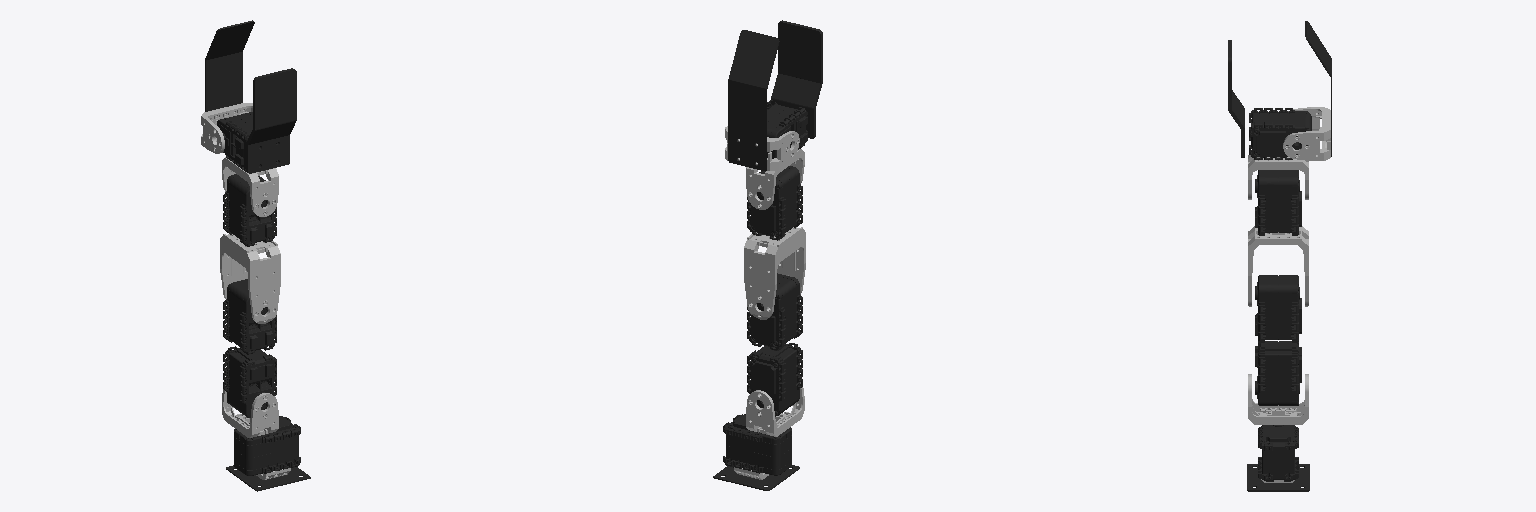
--- What the picture shows (computed from the rendered views, not written in the file) ---
3 views of the same robot in one strip: view 1: azimuth 30°, elevation 25°; view 2: azimuth 150°, elevation 25°; view 3: azimuth 270°, elevation 25° (orthographic).
Robot: crane_plus_arm — 23 links, 22 joints (5 revolute, 17 fixed); root link world; default pose: all joints at 0.
Visible links, largest first — view 1: crane_plus_internal_fixed_finger_link, crane_plus_elbow_link, crane_plus_internal_moving_finger_plate_link, crane_plus_shoulder_flex_link, crane_plus_internal_shoulder_servo_link, crane_plus_internal_lower_arm_servo_link, crane_plus_internal_wrist_servo_link, crane_plus_shoulder_revolute_link, crane_plus_wrist_link, crane_plus_internal_gripper_servo_link, crane_plus_moving_finger_link, crane_plus_internal_mounting_plate_link; view 2: crane_plus_internal_moving_finger_plate_link, crane_plus_internal_fixed_finger_link, crane_plus_elbow_link, crane_plus_shoulder_flex_link, crane_plus_internal_shoulder_servo_link, crane_plus_internal_lower_arm_servo_link, crane_plus_internal_wrist_servo_link, crane_plus_shoulder_revolute_link, crane_plus_internal_gripper_servo_link, crane_plus_wrist_link, crane_plus_moving_finger_link, crane_plus_internal_mounting_plate_link; view 3: crane_plus_internal_lower_arm_servo_link, crane_plus_shoulder_flex_link, crane_plus_internal_wrist_servo_link, crane_plus_internal_gripper_servo_link, crane_plus_internal_shoulder_servo_link, crane_plus_moving_finger_link, crane_plus_shoulder_revolute_link, crane_plus_elbow_link, crane_plus_internal_mounting_plate_link, crane_plus_wrist_link, crane_plus_internal_fixed_finger_link, crane_plus_internal_moving_finger_plate_link.
Link boxes in pixels (box(x1,y1,x2,y2)): crane_plus_internal_fixed_finger_link: box(246, 68, 296, 173); crane_plus_elbow_link: box(220, 234, 280, 323); crane_plus_internal_moving_finger_plate_link: box(205, 20, 254, 111); crane_plus_shoulder_flex_link: box(223, 346, 276, 417); crane_plus_internal_shoulder_servo_link: box(234, 416, 300, 475); crane_plus_internal_lower_arm_servo_link: box(223, 279, 276, 354); crane_plus_internal_wrist_servo_link: box(223, 174, 276, 246); crane_plus_shoulder_revolute_link: box(222, 385, 278, 437); crane_plus_wrist_link: box(222, 157, 278, 216); crane_plus_internal_gripper_servo_link: box(217, 112, 277, 171); crane_plus_moving_finger_link: box(201, 103, 252, 153); crane_plus_internal_mounting_plate_link: box(226, 465, 310, 491); crane_plus_internal_moving_finger_plate_link: box(728, 30, 779, 170); crane_plus_internal_fixed_finger_link: box(771, 20, 822, 138); crane_plus_elbow_link: box(744, 227, 805, 319); crane_plus_shoulder_flex_link: box(747, 343, 802, 416); crane_plus_internal_shoulder_servo_link: box(723, 414, 791, 475); crane_plus_internal_lower_arm_servo_link: box(747, 273, 802, 350); crane_plus_internal_wrist_servo_link: box(747, 166, 802, 240); crane_plus_shoulder_revolute_link: box(746, 382, 804, 436); crane_plus_internal_gripper_servo_link: box(767, 100, 807, 158); crane_plus_wrist_link: box(746, 149, 804, 209); crane_plus_moving_finger_link: box(725, 126, 799, 170); crane_plus_internal_mounting_plate_link: box(713, 465, 799, 490); crane_plus_internal_lower_arm_servo_link: box(1255, 275, 1301, 342); crane_plus_shoulder_flex_link: box(1255, 341, 1301, 405); crane_plus_internal_wrist_servo_link: box(1255, 170, 1301, 235); crane_plus_internal_gripper_servo_link: box(1249, 108, 1311, 159); crane_plus_internal_shoulder_servo_link: box(1258, 425, 1298, 481); crane_plus_moving_finger_link: box(1283, 107, 1330, 160); crane_plus_shoulder_revolute_link: box(1248, 374, 1308, 424); crane_plus_elbow_link: box(1248, 226, 1308, 306); crane_plus_internal_mounting_plate_link: box(1247, 464, 1309, 491); crane_plus_wrist_link: box(1248, 155, 1308, 199); crane_plus_internal_fixed_finger_link: box(1228, 40, 1244, 157); crane_plus_internal_moving_finger_plate_link: box(1305, 21, 1331, 156).
Bounding box of the posed robot: 0.0655 × 0.0831 × 0.3867 m (x, y, z).
13 mesh visuals loaded from 8 distinct referenced files (7 binary STL); not drawn: 5 (reference not matched to a file when rendering).

robot.urdf — crane_plus_arm:
<?xml version="1.0" ?>
<!-- =================================================================================== -->
<!-- |    This document was autogenerated by xacro from crane_plus.urdf.xacro          | -->
<!-- |    EDITING THIS FILE BY HAND IS NOT RECOMMENDED                                 | -->
<!-- =================================================================================== -->
<robot name="crane_plus_arm" xmlns:controller="http://playerstage.sourceforge.net/gazebo/xmlschema/#controller" xmlns:interface="http://playerstage.sourceforge.net/gazebo/xmlschema/#interface" xmlns:sensor="http://playerstage.sourceforge.net/gazebo/xmlschema/#sensor" xmlns:xacro="http://ros.org/wiki/xacro">
  <material name="grey">
    <color rgba="0.75 0.75 0.75 1.0"/>
  </material>
  <material name="black">
    <color rgba="0.2 0.2 0.2 1.0"/>
  </material>
  <!-- Link to provide the location reference for the arm -->
  <link name="world"/>
  <link name="crane_plus_base_link"/>
  <joint name="crane_plus_base_joint" type="fixed">
    <origin xyz="0 0 0"/>
    <parent link="world"/>
    <child link="crane_plus_base_link"/>
  </joint>
  <!-- TODO: When rviz supports multiple materials per link, combine the
         meshes to simplify the link structure. -->
  <joint name="crane_plus_internal_mounting_plate_joint" type="fixed">
    <origin rpy="0 0 0" xyz="0 0 0"/>
    <parent link="crane_plus_base_link"/>
    <child link="crane_plus_internal_mounting_plate_link"/>
  </joint>
  <link name="crane_plus_internal_mounting_plate_link">
    <!--<inertial>-->
    <!--<mass value="0.02"/>-->
    <!--<origin xyz="0 0 0.0005" rpy="0 0 0"/>-->
    <!--<inertia ixx="4.1683e-6" ixy="0.0" ixz="0.0"-->
    <!--iyy="8.33e-6" iyz="0.0"-->
    <!--izz="4.1683e-6"/>-->
    <!--</inertial>-->
    <inertial>
      <mass value="0.001"/>
      <origin rpy="0 0 0" xyz="0 0 0.0005"/>
      <inertia ixx="1" ixy="0.0" ixz="0.0" iyy="1" iyz="0.0" izz="1"/>
    </inertial>
    <visual>
      <origin rpy="0 0 0" xyz="-0.025 -0.025 0"/>
      <geometry>
        <mesh filename="package://crane_plus_description/meshes/mount.stl" scale="1 1 1"/>
      </geometry>
      <material name="black"/>
    </visual>
    <collision>
      <origin rpy="0 0 0" xyz="0 0 0.0005"/>
      <geometry>
        <box size="0.05 0.05 0.001"/>
      </geometry>
    </collision>
  </link>
  <joint name="crane_plus_internal_base_bracket_joint" type="fixed">
    <origin rpy="0 0 0" xyz="0 0 0.001"/>
    <parent link="crane_plus_internal_mounting_plate_link"/>
    <child link="crane_plus_internal_base_bracket_link"/>
  </joint>
  <link name="crane_plus_internal_base_bracket_link">
    <inertial>
      <mass value="0.001"/>
      <origin rpy="0 0 0" xyz="0 0 0.0005"/>
      <inertia ixx="1" ixy="0.0" ixz="0.0" iyy="1" iyz="0.0" izz="1"/>
    </inertial>
    <!--<inertial>-->
    <!--<mass value="0.005"/>-->
    <!--<origin xyz="0.0 0.0 0.004" rpy="0 0 0"/>-->
    <!--<inertia ixx="4.53e-7" ixy="0.0" ixz="0.0"-->
    <!--iyy="6.283e-7" iyz="0.0"-->
    <!--izz="2.283e-7"/>-->
    <!--</inertial>-->
    <visual>
      <origin rpy="-1.570795 0 0" xyz="0 0 0"/>
      <geometry>
        <mesh filename="package://crane_plus_description/meshes/f53.stl" scale="0.01 0.01 0.01"/>
      </geometry>
      <material name="grey"/>
    </visual>
    <collision>
      <origin rpy="0 0 0" xyz="0.0 0.0 0.004"/>
      <geometry>
        <box size="0.022 0.032 0.008"/>
      </geometry>
    </collision>
  </link>
  <joint name="crane_plus_internal_shoulder_servo_joint" type="fixed">
    <origin rpy="0 0 0" xyz="-0.0028 0 0.023"/>
    <parent link="crane_plus_internal_base_bracket_link"/>
    <child link="crane_plus_internal_shoulder_servo_link"/>
  </joint>
  <link name="crane_plus_internal_shoulder_servo_link">
    <inertial>
      <mass value="0.001"/>
      <origin rpy="0 0 0" xyz="0 0 0.0005"/>
      <inertia ixx="1" ixy="0.0" ixz="0.0" iyy="1" iyz="0.0" izz="1"/>
    </inertial>
    <!--<inertial>-->
    <!--<mass value="0.0564"/>-->
    <!--<origin xyz="${0-AX12_ORIGIN_OFFSET_X} 0 0" rpy="0 0 0"/>-->
    <!--<inertia ixx="1.16e-5" ixy="0.0" ixz="0.0"-->
    <!--iyy="1.656e-50" iyz="0.0"-->
    <!--izz="1.854e-5"/>-->
    <!--</inertial>-->
    <visual>
      <origin rpy="-1.570795 0 0" xyz="0 0 0"/>
      <geometry>
        <mesh filename="package://crane_plus_description/meshes/ax12_box.stl" scale="0.001 0.001 0.001"/>
      </geometry>
      <material name="black"/>
    </visual>
    <collision>
      <origin rpy="0 0 0" xyz="0.0015 0 0"/>
      <geometry>
        <box size="0.05 0.032 0.038"/>
      </geometry>
    </collision>
  </link>
  <joint name="crane_plus_shoulder_revolute_joint" type="revolute">
    <origin rpy="0 0 0" xyz="-0.0135 0 0.021"/>
    <axis xyz="0 0 1"/>
    <limit effort="30" lower="-2.617" upper="2.617" velocity="1.571"/>
    <parent link="crane_plus_internal_shoulder_servo_link"/>
    <child link="crane_plus_shoulder_revolute_link"/>
  </joint>
  <link name="crane_plus_shoulder_revolute_link">
    <inertial>
      <mass value="0.001"/>
      <origin rpy="0 0 0" xyz="0 0 0.0005"/>
      <inertia ixx="1" ixy="0.0" ixz="0.0" iyy="1" iyz="0.0" izz="1"/>
    </inertial>
    <!--<inertial>-->
    <!--<mass value="0.01"/>-->
    <!--<origin xyz="0 0 0.01875" rpy="0 0 0"/>-->
    <!--[> Full height: (3.1320833333333333e-06, 2.481041666666667e-06, 1.6927083333333333e-06) <]-->
    <!--[> Half height: (2.253177083333333e-06, 2.481041666666667e-06, 8.138020833333333e-07) <]-->
    <!--<inertia ixx="2.253e-6" ixy="0.0" ixz="0.0"-->
    <!--iyy="2.481e-6" iyz="0.0"-->
    <!--izz="8.138e-7"/>-->
    <!--</inertial>-->
    <visual>
      <origin rpy="1.570795 0 0" xyz="0 0 0.0265"/>
      <geometry>
        <mesh filename="package://crane_plus_description/meshes/f2.stl" scale="0.001 0.001 0.001"/>
      </geometry>
      <material name="grey"/>
    </visual>
    <collision>
      <origin rpy="0 0 0" xyz="0 0 0.01875"/>
      <geometry>
        <box size="0.025 0.0485 0.0375"/>
      </geometry>
    </collision>
  </link>
  <joint name="crane_plus_shoulder_flex_joint" type="revolute">
    <origin rpy="-1.570795 -1.570795 0" xyz="0 0 0.0265"/>
    <axis xyz="0 0 -1"/>
    <limit effort="30" lower="-1.7" upper="1.7" velocity="1.571"/>
    <parent link="crane_plus_shoulder_revolute_link"/>
    <child link="crane_plus_shoulder_flex_link"/>
  </joint>
  <link name="crane_plus_shoulder_flex_link">
    <inertial>
      <mass value="0.001"/>
      <origin rpy="0 0 0" xyz="0 0 0.0005"/>
      <inertia ixx="1" ixy="0.0" ixz="0.0" iyy="1" iyz="0.0" izz="1"/>
    </inertial>
    <!--<inertial>-->
    <!--<mass value="0.0564"/>-->
    <!--<origin xyz="${AX12_ORIGIN_TO_AXLE-AX12_ORIGIN_OFFSET_X} 0 0" rpy="0 0 0"/>-->
    <!--<inertia ixx="1.16e-5" ixy="0.0" ixz="0.0"-->
    <!--iyy="1.656e-5" iyz="0.0"-->
    <!--izz="1.854e-5"/>-->
    <!--</inertial>-->
    <visual>
      <origin rpy="-1.570795 0 0" xyz="0.012 0 0"/>
      <geometry>
        <mesh filename="package://crane_plus_description/meshes/ax12_box.stl" scale="0.001 0.001 0.001"/>
      </geometry>
      <material name="black"/>
    </visual>
    <collision>
      <origin rpy="0 0 0" xyz="0.0135 0 0"/>
      <geometry>
        <box size="0.05 0.032 0.038"/>
      </geometry>
    </collision>
  </link>
  <joint name="crane_plus_internal_upper_arm_upper_joiner_joint" type="fixed">
    <origin rpy="-1.570795 0 1.570795" xyz="0.0415 0 0"/>
    <parent link="crane_plus_shoulder_flex_link"/>
    <child link="crane_plus_internal_upper_arm_upper_joiner_link"/>
  </joint>
  <link name="crane_plus_internal_upper_arm_upper_joiner_link">
    <inertial>
      <mass value="0.001"/>
      <origin rpy="0 0 0" xyz="0 0 0.0005"/>
      <inertia ixx="1" ixy="0.0" ixz="0.0" iyy="1" iyz="0.0" izz="1"/>
    </inertial>
    <!--<inertial>-->
    <!--<mass value="0.005"/>-->
    <!--<origin xyz="0.0 0.0 0.0045" rpy="0 0 0"/>-->
    <!--<inertia ixx="6.354e-7" ixy="0.0" ixz="0.0"-->
    <!--iyy="8.621e-7" iyz="0.0"-->
    <!--izz="2.942e-7"/>-->
    <!--</inertial>-->
    <visual>
      <origin rpy="1.570795 0 3.14159" xyz="0 0 0"/>
      <geometry>
        <mesh filename="package://crane_plus_description/meshes/f3.stl" scale="0.001 0.001 0.001"/>
      </geometry>
      <material name="grey"/>
    </visual>
    <collision>
      <origin rpy="0 0 0" xyz="0.0 0.0 0.0045"/>
      <geometry>
        <box size="0.025 0.038 0.009"/>
      </geometry>
    </collision>
  </link>
  <joint name="crane_plus_internal_upper_arm_lower_joiner_joint" type="fixed">
    <origin rpy="3.14159 0 0" xyz="0 0 0"/>
    <parent link="crane_plus_internal_upper_arm_upper_joiner_link"/>
    <child link="crane_plus_internal_upper_arm_lower_joiner_link"/>
  </joint>
  <link name="crane_plus_internal_upper_arm_lower_joiner_link">
    <inertial>
      <mass value="0.001"/>
      <origin rpy="0 0 0" xyz="0 0 0.0005"/>
      <inertia ixx="1" ixy="0.0" ixz="0.0" iyy="1" iyz="0.0" izz="1"/>
    </inertial>
    <!--<inertial>-->
    <!--<mass value="0.005"/>-->
    <!--<origin xyz="0.0 0.0 0.0045" rpy="0 0 0"/>-->
    <!--<inertia ixx="6.354e-7" ixy="0.0" ixz="0.0"-->
    <!--iyy="8.621e-7" iyz="0.0"-->
    <!--izz="2.942e-7"/>-->
    <!--</inertial>-->
    <visual>
      <origin rpy="1.570795 0 3.14159" xyz="0 0 0"/>
      <geometry>
        <mesh filename="package://crane_plus_description/meshes/f3.stl" scale="0.001 0.001 0.001"/>
      </geometry>
      <material name="grey"/>
    </visual>
    <collision>
      <origin rpy="0 0 0" xyz="0.0 0.0 0.0045"/>
      <geometry>
        <box size="0.025 0.038 0.009"/>
      </geometry>
    </collision>
  </link>
  <joint name="crane_plus_internal_lower_arm_servo_joint" type="fixed">
    <origin rpy="0 1.570795 1.570795" xyz="0 0 0.0295"/>
    <parent link="crane_plus_internal_upper_arm_lower_joiner_link"/>
    <child link="crane_plus_internal_lower_arm_servo_link"/>
  </joint>
  <link name="crane_plus_internal_lower_arm_servo_link">
    <inertial>
      <mass value="0.001"/>
      <origin rpy="0 0 0" xyz="0 0 0.0005"/>
      <inertia ixx="1" ixy="0.0" ixz="0.0" iyy="1" iyz="0.0" izz="1"/>
    </inertial>
    <!--<inertial>-->
    <!--<mass value="0.0564"/>-->
    <!--<origin xyz="${0-AX12_ORIGIN_OFFSET_X} 0 0" rpy="0 0 0"/>-->
    <!--<inertia ixx="1.16e-5" ixy="0.0" ixz="0.0"-->
    <!--iyy="1.656e-50" iyz="0.0"-->
    <!--izz="1.854e-5"/>-->
    <!--</inertial>-->
    <visual>
      <origin rpy="-1.570795 0 0" xyz="0 0 0"/>
      <geometry>
        <mesh filename="package://crane_plus_description/meshes/ax12_box.stl" scale="0.001 0.001 0.001"/>
      </geometry>
      <material name="black"/>
    </visual>
    <collision>
      <origin rpy="0 0 0" xyz="0.0015 0 0"/>
      <geometry>
        <box size="0.05 0.032 0.038"/>
      </geometry>
    </collision>
  </link>
  <joint name="crane_plus_elbow_joint" type="revolute">
    <origin rpy="1.570795 0 1.570795" xyz="-0.012 0 0"/>
    <axis xyz="0 1 0"/>
    <limit effort="30" lower="-2.3" upper="2.3" velocity="1.571"/>
    <parent link="crane_plus_internal_lower_arm_servo_link"/>
    <child link="crane_plus_elbow_link"/>
  </joint>
  <link name="crane_plus_elbow_link">
    <inertial>
      <mass value="0.001"/>
      <origin rpy="0 0 0" xyz="0 0 0.0005"/>
      <inertia ixx="1" ixy="0.0" ixz="0.0" iyy="1" iyz="0.0" izz="1"/>
    </inertial>
    <!--<inertial>-->
    <!--<mass value="0.015"/>-->
    <!--<origin xyz="0 0 -${F4_AXLE_HEIGHT-F4_HEIGHT/2+0.0015}" rpy="0 0 0"/>-->
    <!--[> Full height: (8.2215625e-06, 3.9203124999999996e-06, 6.2612499999999996e-06) <]-->
    <!--[> Half height: (4.2606249999999995e-06, 3.9203124999999996e-06, 2.3003125e-06) <]-->
    <!--<inertia ixx="4.261e-6" ixy="0.0" ixz="0.0"-->
    <!--iyy="3.921e-6" iyz="0.0"-->
    <!--izz="2.3e-6"/>-->
    <!--</inertial>-->
    <visual>
      <origin rpy="1.570795 0 0" xyz="0 0 0"/>
      <geometry>
        <mesh filename="package://crane_plus_description/meshes/f4.stl" scale="0.001 0.001 0.001"/>
      </geometry>
      <material name="grey"/>
    </visual>
    <collision>
      <!-- 0.0015 is for the nub height which is not included in
             F4_AXLE_HEIGHT -->
      <origin rpy="0 0 0" xyz="0 0 -0.0215"/>
      <geometry>
        <box size="0.028 0.0485 0.065"/>
      </geometry>
    </collision>
  </link>
  <joint name="crane_plus_internal_lower_arm_joiner_joint" type="fixed">
    <origin rpy="0 3.14159 0" xyz="0 0 -0.0525"/>
    <parent link="crane_plus_elbow_link"/>
    <child link="crane_plus_internal_lower_arm_joiner_link"/>
  </joint>
  <link name="crane_plus_internal_lower_arm_joiner_link">
    <inertial>
      <mass value="0.001"/>
      <origin rpy="0 0 0" xyz="0 0 0.0005"/>
      <inertia ixx="1" ixy="0.0" ixz="0.0" iyy="1" iyz="0.0" izz="1"/>
    </inertial>
    <!--<inertial>-->
    <!--<mass value="0.005"/>-->
    <!--<origin xyz="0.0 0.0 0.0045" rpy="0 0 0"/>-->
    <!--<inertia ixx="6.354e-7" ixy="0.0" ixz="0.0"-->
    <!--iyy="8.621e-7" iyz="0.0"-->
    <!--izz="2.942e-7"/>-->
    <!--</inertial>-->
    <visual>
      <origin rpy="1.570795 0 3.14159" xyz="0 0 0"/>
      <geometry>
        <mesh filename="package://crane_plus_description/meshes/f3.stl" scale="0.001 0.001 0.001"/>
      </geometry>
      <material name="grey"/>
    </visual>
    <collision>
      <origin rpy="0 0 0" xyz="0.0 0.0 0.0045"/>
      <geometry>
        <box size="0.025 0.038 0.009"/>
      </geometry>
    </collision>
  </link>
  <joint name="crane_plus_internal_wrist_servo_joint" type="fixed">
    <origin rpy="0 1.570795 1.570795" xyz="0 0 0.0295"/>
    <parent link="crane_plus_internal_lower_arm_joiner_link"/>
    <child link="crane_plus_internal_wrist_servo_link"/>
  </joint>
  <link name="crane_plus_internal_wrist_servo_link">
    <inertial>
      <mass value="0.001"/>
      <origin rpy="0 0 0" xyz="0 0 0.0005"/>
      <inertia ixx="1" ixy="0.0" ixz="0.0" iyy="1" iyz="0.0" izz="1"/>
    </inertial>
    <!--<inertial>-->
    <!--<mass value="0.0564"/>-->
    <!--<origin xyz="${0-AX12_ORIGIN_OFFSET_X} 0 0" rpy="0 0 0"/>-->
    <!--<inertia ixx="1.16e-5" ixy="0.0" ixz="0.0"-->
    <!--iyy="1.656e-50" iyz="0.0"-->
    <!--izz="1.854e-5"/>-->
    <!--</inertial>-->
    <visual>
      <origin rpy="-1.570795 0 0" xyz="0 0 0"/>
      <geometry>
        <mesh filename="package://crane_plus_description/meshes/ax12_box.stl" scale="0.001 0.001 0.001"/>
      </geometry>
      <material name="black"/>
    </visual>
    <collision>
      <origin rpy="0 0 0" xyz="0.0015 0 0"/>
      <geometry>
        <box size="0.05 0.032 0.038"/>
      </geometry>
    </collision>
  </link>
  <joint name="crane_plus_wrist_joint" type="revolute">
    <origin rpy="-1.570795 0 -1.570795" xyz="-0.012 0 0"/>
    <axis xyz="0 -1 0"/>
    <limit effort="30" lower="-1.7" upper="1.7" velocity="1.571"/>
    <parent link="crane_plus_internal_wrist_servo_link"/>
    <child link="crane_plus_wrist_link"/>
  </joint>
  <link name="crane_plus_wrist_link">
    <inertial>
      <mass value="0.001"/>
      <origin rpy="0 0 0" xyz="0 0 0.0005"/>
      <inertia ixx="1" ixy="0.0" ixz="0.0" iyy="1" iyz="0.0" izz="1"/>
    </inertial>
    <!--<inertial>-->
    <!--<mass value="0.01"/>-->
    <!--<origin xyz="0 0 -${F2_AXLE_HEIGHT-F2_HEIGHT/2}" rpy="0 0 0"/>-->
    <!--[> Full height: (3.1320833333333333e-06, 2.481041666666667e-06, 1.6927083333333333e-06) <]-->
    <!--[> Half height: (2.253177083333333e-06, 2.481041666666667e-06, 8.138020833333333e-07) <]-->
    <!--<inertia ixx="2.253e-6" ixy="0.0" ixz="0.0"-->
    <!--iyy="2.481e-6" iyz="0.0"-->
    <!--izz="8.138e-7"/>-->
    <!--</inertial>-->
    <visual>
      <origin rpy="1.570795 0 0" xyz="0 0 0"/>
      <geometry>
        <mesh filename="package://crane_plus_description/meshes/f2.stl" scale="0.001 0.001 0.001"/>
      </geometry>
      <material name="grey"/>
    </visual>
    <collision>
      <origin rpy="0 0 0" xyz="0 0 -0.00775"/>
      <geometry>
        <box size="0.025 0.0485 0.0375"/>
      </geometry>
    </collision>
  </link>
  <joint name="crane_plus_internal_wrist_joiner_joint" type="fixed">
    <origin rpy="0 3.14159 1.570795" xyz="0 0 -0.0265"/>
    <parent link="crane_plus_wrist_link"/>
    <child link="crane_plus_internal_wrist_joiner_link"/>
  </joint>
  <link name="crane_plus_internal_wrist_joiner_link">
    <inertial>
      <mass value="0.001"/>
      <origin rpy="0 0 0" xyz="0 0 0.0005"/>
      <inertia ixx="1" ixy="0.0" ixz="0.0" iyy="1" iyz="0.0" izz="1"/>
    </inertial>
    <!--<inertial>-->
    <!--<mass value="0.005"/>-->
    <!--<origin xyz="0.0 0.0 0.0045" rpy="0 0 0"/>-->
    <!--<inertia ixx="6.354e-7" ixy="0.0" ixz="0.0"-->
    <!--iyy="8.621e-7" iyz="0.0"-->
    <!--izz="2.942e-7"/>-->
    <!--</inertial>-->
    <visual>
      <origin rpy="1.570795 0 3.14159" xyz="0 0 0"/>
      <geometry>
        <mesh filename="package://crane_plus_description/meshes/f3.stl" scale="0.001 0.001 0.001"/>
      </geometry>
      <material name="grey"/>
    </visual>
    <collision>
      <origin rpy="0 0 0" xyz="0.0 0.0 0.0045"/>
      <geometry>
        <box size="0.025 0.038 0.009"/>
      </geometry>
    </collision>
  </link>
  <joint name="crane_plus_internal_gripper_servo_joint" type="fixed">
    <origin rpy="1.570795 3.14159 0" xyz="0.0028 0 0.019"/>
    <parent link="crane_plus_internal_wrist_joiner_link"/>
    <child link="crane_plus_internal_gripper_servo_link"/>
  </joint>
  <link name="crane_plus_internal_gripper_servo_link">
    <inertial>
      <mass value="0.001"/>
      <origin rpy="0 0 0" xyz="0 0 0.0005"/>
      <inertia ixx="1" ixy="0.0" ixz="0.0" iyy="1" iyz="0.0" izz="1"/>
    </inertial>
    <!--<inertial>-->
    <!--<mass value="0.0564"/>-->
    <!--<origin xyz="${0-AX12_ORIGIN_OFFSET_X} 0 0" rpy="0 0 0"/>-->
    <!--<inertia ixx="1.16e-5" ixy="0.0" ixz="0.0"-->
    <!--iyy="1.656e-50" iyz="0.0"-->
    <!--izz="1.854e-5"/>-->
    <!--</inertial>-->
    <visual>
      <origin rpy="-1.570795 0 0" xyz="0 0 0"/>
      <geometry>
        <mesh filename="package://crane_plus_description/meshes/ax12_box.stl" scale="0.001 0.001 0.001"/>
      </geometry>
      <material name="black"/>
    </visual>
    <collision>
      <origin rpy="0 0 0" xyz="0.0015 0 0"/>
      <geometry>
        <box size="0.05 0.032 0.038"/>
      </geometry>
    </collision>
  </link>
  <joint name="crane_plus_internal_fixed_finger_joiner_joint" type="fixed">
    <origin rpy="-1.570795 0 1.570795" xyz="0.0295 0 0"/>
    <parent link="crane_plus_internal_gripper_servo_link"/>
    <child link="crane_plus_internal_fixed_finger_joiner_link"/>
  </joint>
  <link name="crane_plus_internal_fixed_finger_joiner_link">
    <inertial>
      <mass value="0.001"/>
      <origin rpy="0 0 0" xyz="0 0 0.0005"/>
      <inertia ixx="1" ixy="0.0" ixz="0.0" iyy="1" iyz="0.0" izz="1"/>
    </inertial>
    <!--<inertial>-->
    <!--<mass value="0.005"/>-->
    <!--<origin xyz="0.0 0.0 0.0045" rpy="0 0 0"/>-->
    <!--<inertia ixx="6.354e-7" ixy="0.0" ixz="0.0"-->
    <!--iyy="8.621e-7" iyz="0.0"-->
    <!--izz="2.942e-7"/>-->
    <!--</inertial>-->
    <visual>
      <origin rpy="1.570795 0 3.14159" xyz="0 0 0"/>
      <geometry>
        <mesh filename="package://crane_plus_description/meshes/f3.stl" scale="0.001 0.001 0.001"/>
      </geometry>
      <material name="grey"/>
    </visual>
    <collision>
      <origin rpy="0 0 0" xyz="0.0 0.0 0.0045"/>
      <geometry>
        <box size="0.025 0.038 0.009"/>
      </geometry>
    </collision>
  </link>
  <joint name="crane_plus_internal_fixed_finger_joint" type="fixed">
    <origin rpy="0 0 3.14159" xyz="0 0 0"/>
    <parent link="crane_plus_internal_fixed_finger_joiner_link"/>
    <child link="crane_plus_internal_fixed_finger_link"/>
  </joint>
  <link name="crane_plus_internal_fixed_finger_link">
    <inertial>
      <mass value="0.001"/>
      <origin rpy="0 0 0" xyz="0 0 0.0005"/>
      <inertia ixx="1" ixy="0.0" ixz="0.0" iyy="1" iyz="0.0" izz="1"/>
    </inertial>
    <!--<inertial>-->
    <!--<mass value="0.02"/>-->
    <!--<origin xyz="0 0 0" rpy="0 0 0"/>-->
    <!--<inertia ixx="1.612e-5" ixy="0.0" ixz="0.0"-->
    <!--iyy="1.823e-5" iyz="0.0"-->
    <!--izz="2.732e-6"/>-->
    <!--</inertial>-->
    <visual>
      <origin rpy="0 0 0" xyz="0 0 0"/>
      <geometry>
        <mesh filename="package://crane_plus_description/meshes/finger_fixed.stl" scale="0.001 0.001 0.001"/>
      </geometry>
      <material name="black"/>
    </visual>
    <collision>
      <origin rpy="0 0 0" xyz="0 0 0"/>
      <geometry>
        <mesh filename="package://crane_plus_description/meshes/finger_fixed_collision.stl" scale="0.001 0.001 0.001"/>
      </geometry>
    </collision>
  </link>
  <!-- Tip of the fixed finger (useful in all sorts of ways) -->
  <joint name="crane_plus_fixed_finger_tip" type="fixed">
    <origin rpy="1.570795 0 1.570795" xyz="0.0745 0 -0.0106"/>
    <parent link="crane_plus_internal_fixed_finger_link"/>
    <child link="crane_plus_fixed_finger_tip_link"/>
  </joint>
  <link name="crane_plus_fixed_finger_tip_link"/>
  <joint name="crane_plus_moving_finger_joint" type="revolute">
    <origin rpy="-1.570795 0 -1.570795" xyz="-0.012 0 0"/>
    <axis xyz="0 -1 0"/>
    <limit effort="30" lower="-0.6" upper="0.65" velocity="1.571"/>
    <parent link="crane_plus_internal_gripper_servo_link"/>
    <child link="crane_plus_moving_finger_link"/>
  </joint>
  <link name="crane_plus_moving_finger_link">
    <inertial>
      <mass value="0.001"/>
      <origin rpy="0 0 0" xyz="0 0 0.0005"/>
      <inertia ixx="1" ixy="0.0" ixz="0.0" iyy="1" iyz="0.0" izz="1"/>
    </inertial>
    <!--<inertial>-->
    <!--<mass value="0.01"/>-->
    <!--<origin xyz="0 0 -${F2_AXLE_HEIGHT-F2_HEIGHT/2}" rpy="0 0 0"/>-->
    <!--[> Full height: (3.1320833333333333e-06, 2.481041666666667e-06, 1.6927083333333333e-06) <]-->
    <!--[> Half height: (2.253177083333333e-06, 2.481041666666667e-06, 8.138020833333333e-07) <]-->
    <!--<inertia ixx="2.253e-6" ixy="0.0" ixz="0.0"-->
    <!--iyy="2.481e-6" iyz="0.0"-->
    <!--izz="8.138e-7"/>-->
    <!--</inertial>-->
    <visual>
      <origin rpy="1.570795 0 0" xyz="0 0 0"/>
      <geometry>
        <mesh filename="package://crane_plus_description/meshes/f2.stl" scale="0.001 0.001 0.001"/>
      </geometry>
      <material name="grey"/>
    </visual>
    <collision>
      <origin rpy="0 0 0" xyz="0 0 -0.00775"/>
      <geometry>
        <box size="0.025 0.0485 0.0375"/>
      </geometry>
    </collision>
  </link>
  <joint name="crane_plus_internal_moving_finger_plate_joint" type="fixed">
    <origin rpy="3.14159 0 0" xyz="0 0 -0.0265"/>
    <parent link="crane_plus_moving_finger_link"/>
    <child link="crane_plus_internal_moving_finger_plate_link"/>
  </joint>
  <link name="crane_plus_internal_moving_finger_plate_link">
    <inertial>
      <mass value="0.001"/>
      <origin rpy="0 0 0" xyz="0 0 0.0005"/>
      <inertia ixx="1" ixy="0.0" ixz="0.0" iyy="1" iyz="0.0" izz="1"/>
    </inertial>
    <!--<inertial>-->
    <!--<mass value="0.02"/>-->
    <!--<origin xyz="0 0 0" rpy="0 0 0"/>-->
    <!--<inertia ixx="2.01e-5" ixy="0.0" ixz="0.0"-->
    <!--iyy="2.2e-5" iyz="0.0"-->
    <!--izz="2.936e-6"/>-->
    <!--</inertial>-->
    <visual>
      <origin rpy="0 0 0" xyz="0 0 0"/>
      <geometry>
        <mesh filename="package://crane_plus_description/meshes/finger_moving.stl" scale="0.001 0.001 0.001"/>
      </geometry>
      <material name="black"/>
    </visual>
    <collision>
      <origin rpy="0 0 0" xyz="0 0 0"/>
      <geometry>
        <mesh filename="package://crane_plus_description/meshes/finger_moving_collision.stl" scale="0.001 0.001 0.001"/>
      </geometry>
    </collision>
  </link>
  <!-- Tip of the moving finger (useful in all sorts of ways) -->
  <joint name="crane_plus_moving_finger_tip" type="fixed">
    <origin rpy="1.570795 0 1.570795" xyz="0.0923 0 -0.0194"/>
    <parent link="crane_plus_internal_moving_finger_plate_link"/>
    <child link="crane_plus_moving_finger_tip_link"/>
  </joint>
  <link name="crane_plus_moving_finger_tip_link"/>
  <!-- A virtual link to make it easy to find the centre of the gripper -->
  <link name="crane_plus_gripper_centre"/>
  <joint name="crane_plus_gripper_joint" type="fixed">
    <origin rpy="1.570795 -1.570795 0" xyz="0 -0.0537 0"/>
    <parent link="crane_plus_internal_gripper_servo_link"/>
    <child link="crane_plus_gripper_centre"/>
  </joint>
</robot>
